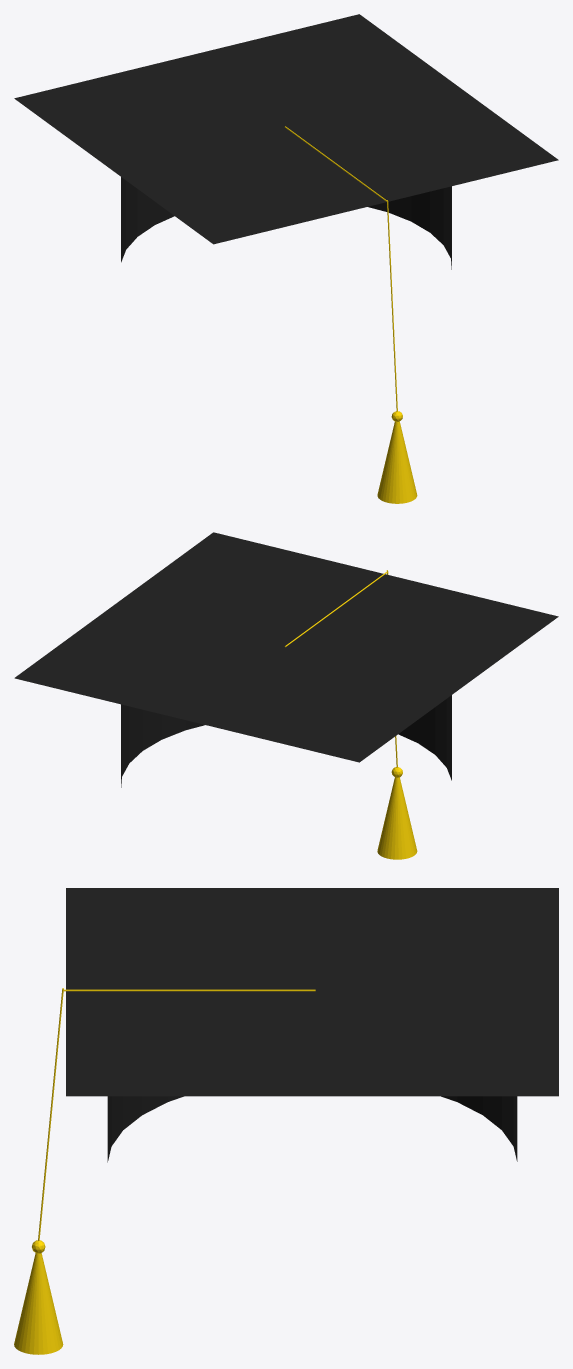
Rendered from GraduationHat.gltf.
3 renders of one model, top to bottom at view 1: azimuth 30°, elevation 25°; view 2: azimuth 150°, elevation 25°; view 3: azimuth 270°, elevation 25°, orthographic. The views are drawn at different scales.
Parts seen in each view (by area): view 1: GradHat; view 2: GradHat; view 3: GradHat.
Boxes of the visible parts, x1=… form: GradHat: x1=14, y1=14, x2=558, y2=503; GradHat: x1=14, y1=532, x2=558, y2=859; GradHat: x1=14, y1=888, x2=558, y2=1354.
Bounding box in the file's own units: 0.3 × 0.2391 × 0.3317.
